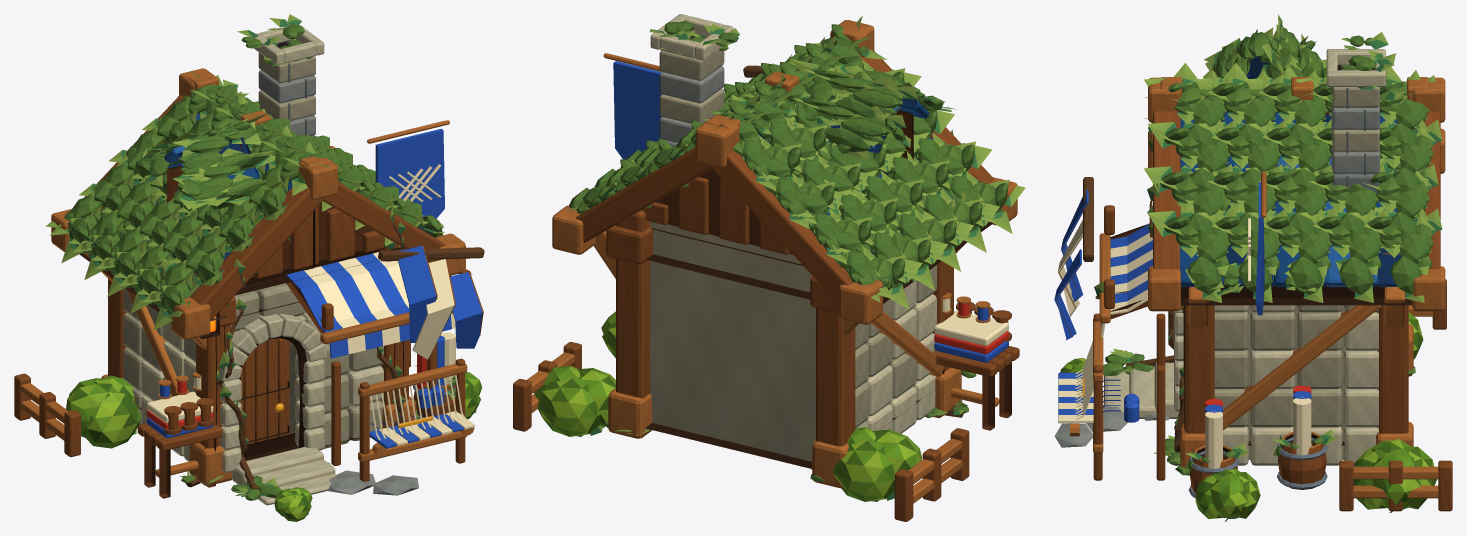
The model's file is weaver.glb.
3 views of the same model, side by side, from view 1: azimuth 30°, elevation 25°; view 2: azimuth 150°, elevation 25°; view 3: azimuth 270°, elevation 25° (orthographic). The views are drawn at different scales.
Parts seen in each view (by area): view 1: Runtime surface 019, Runtime surface 003, Runtime surface 000, Runtime surface 004, Runtime surface 001, Runtime surface 011, Runtime surface 018, Runtime surface 005, Runtime surface 006, Runtime surface 010, Runtime surface 044, Runtime surface 002 (+13 smaller); view 2: Runtime surface 011, Runtime surface 019, Runtime surface 003, Runtime surface 001, Runtime surface 018, Runtime surface 000, Runtime surface 004, Runtime surface 036, Runtime surface 041, Runtime surface 002, Runtime surface 035, Runtime surface 006 (+7 smaller); view 3: Runtime surface 019, Runtime surface 001, Runtime surface 000, Runtime surface 003, Runtime surface 011, Runtime surface 018, Runtime surface 004, Runtime surface 005, Runtime surface 010, Runtime surface 041, Runtime surface 006, Runtime surface 044 (+16 smaller).
Part boxes in pixels (x1,y1,x2,y2): Runtime surface 019: (64,84,442,313); Runtime surface 003: (14,94,471,457); Runtime surface 000: (141,24,383,505); Runtime surface 004: (147,128,482,438); Runtime surface 001: (20,68,465,485); Runtime surface 011: (123,52,383,448); Runtime surface 018: (45,71,438,338); Runtime surface 005: (147,164,455,423); Runtime surface 006: (79,205,403,460); Runtime surface 010: (258,70,418,495); Runtime surface 044: (331,342,465,481); Runtime surface 002: (144,165,451,498); Runtime surface 011: (650,50,936,461); Runtime surface 019: (569,24,1008,299); Runtime surface 003: (513,49,1019,521); Runtime surface 001: (527,20,1017,503); Runtime surface 018: (567,16,1025,309); Runtime surface 000: (650,14,936,433); Runtime surface 004: (613,61,1008,362); Runtime surface 036: (534,318,921,501); Runtime surface 041: (604,21,976,481); Runtime surface 002: (655,110,1011,430); Runtime surface 035: (541,311,921,501); Runtime surface 006: (644,222,993,468); Runtime surface 019: (1160,27,1433,294); Runtime surface 001: (1099,77,1445,498); Runtime surface 000: (1104,49,1385,465); Runtime surface 003: (1104,111,1452,511); Runtime surface 011: (1214,87,1379,459); Runtime surface 018: (1144,14,1442,302); Runtime surface 004: (1054,182,1311,422); Runtime surface 005: (1057,218,1311,468); Runtime surface 010: (1054,106,1379,447); Runtime surface 041: (1103,35,1415,475); Runtime surface 006: (1181,284,1412,445); Runtime surface 044: (1093,313,1165,480).
Bounding box in the file's own units: 4.25 × 4.12 × 3.62.
Materials: 42 (33 with a texture image).
